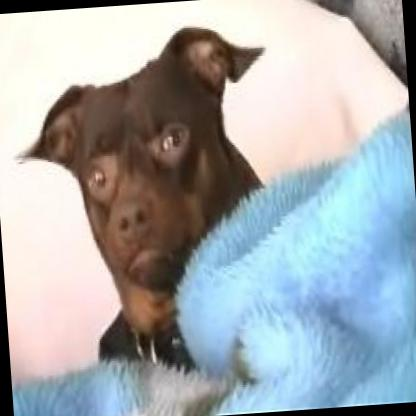miniature_pinscher: (7, 12, 286, 370)
